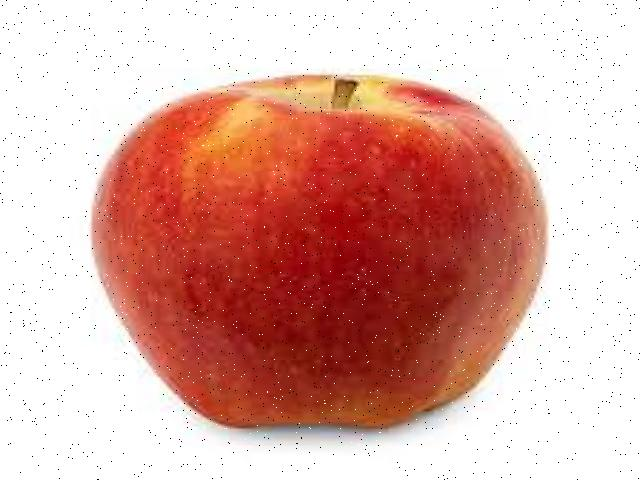apple: (75, 66, 558, 438)
